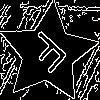F: (23, 28, 77, 82)
